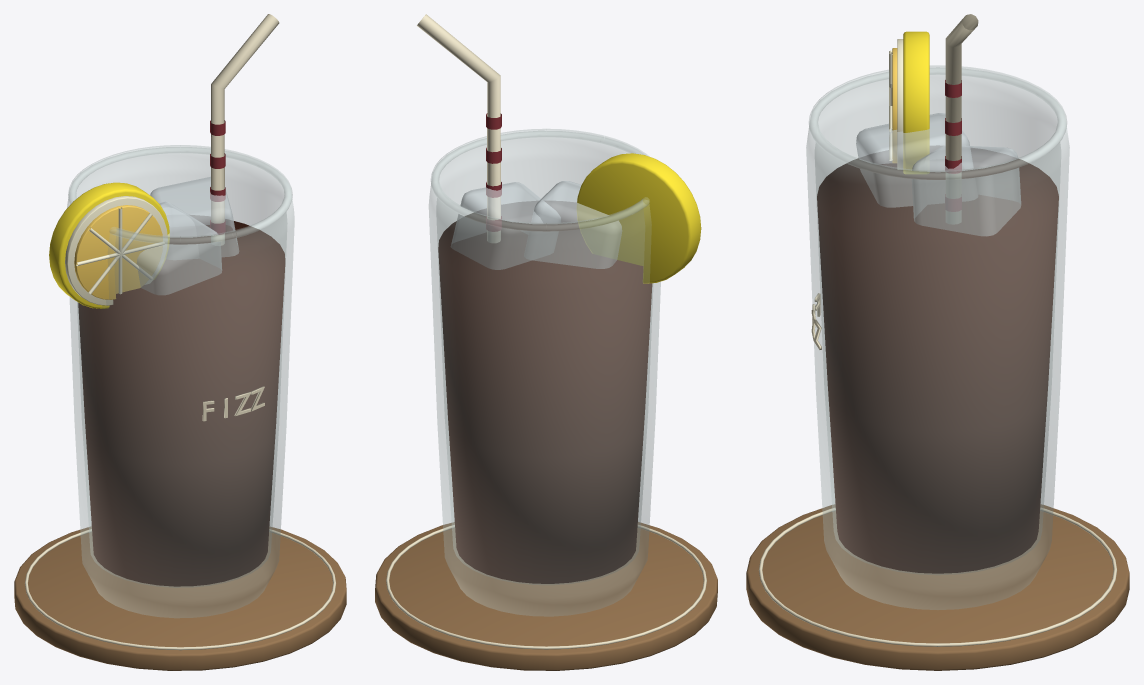
Rendered from drink-cola.glb.
The picture shows the model from 3 angles, left to right: view 1: azimuth 30°, elevation 25°; view 2: azimuth 150°, elevation 25°; view 3: azimuth 270°, elevation 25°; orthographic projection. The views are drawn at different scales.
Visible parts, largest first — view 1: drink-cola; view 2: drink-cola; view 3: drink-cola.
Boxes of the visible parts, x1,y1,x2,y2 form: drink-cola: (14,14,346,670); drink-cola: (375,14,717,670); drink-cola: (746,14,1129,670).
Bounding box in the file's own units: 0.32 × 0.5846 × 0.32.
